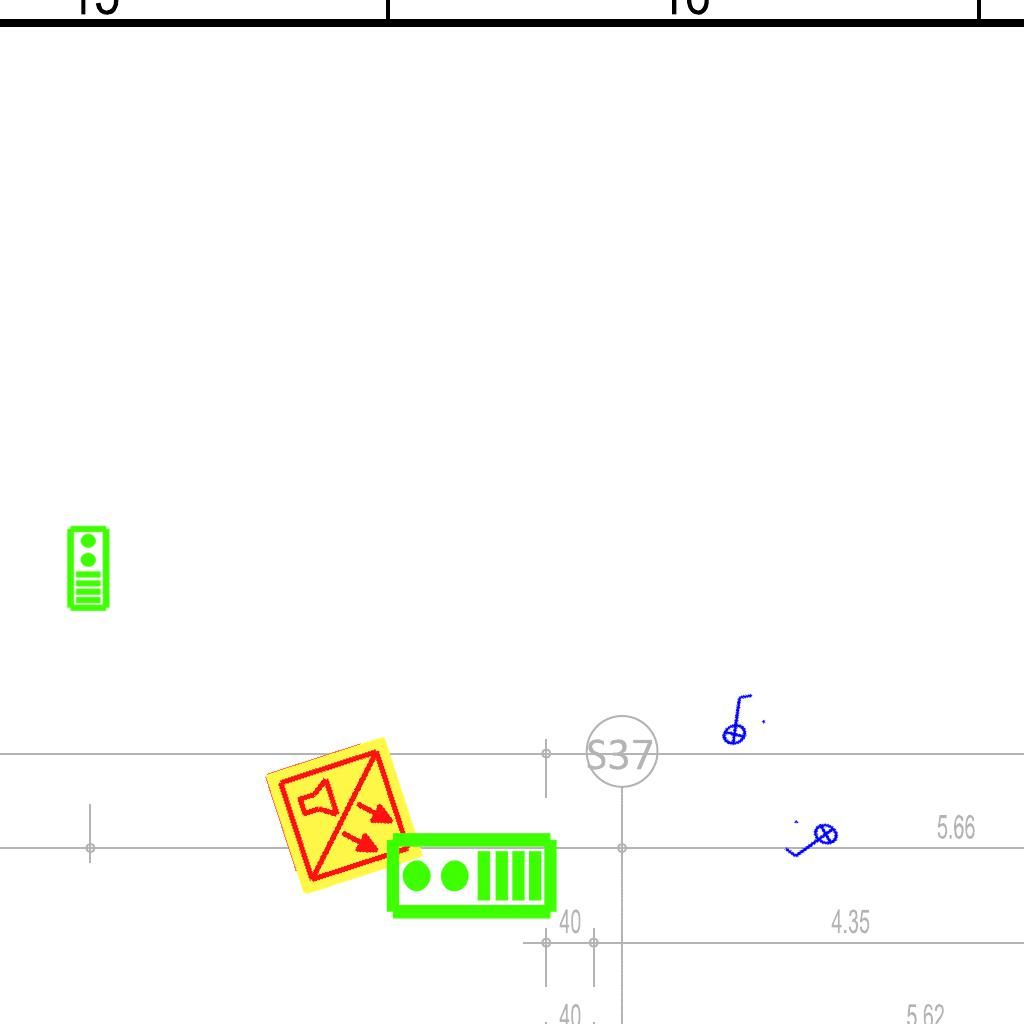Ausschalter_beleuchtet: (701, 685, 773, 753), (778, 810, 848, 876)
Gegensprechanlage_mit_Video: (383, 830, 559, 925), (64, 524, 111, 612)
OKW_Multisensormelder_(Kombination_optischer_Rauch-Kahlenmonoxid_Waerme-Melder): (260, 732, 428, 900)
